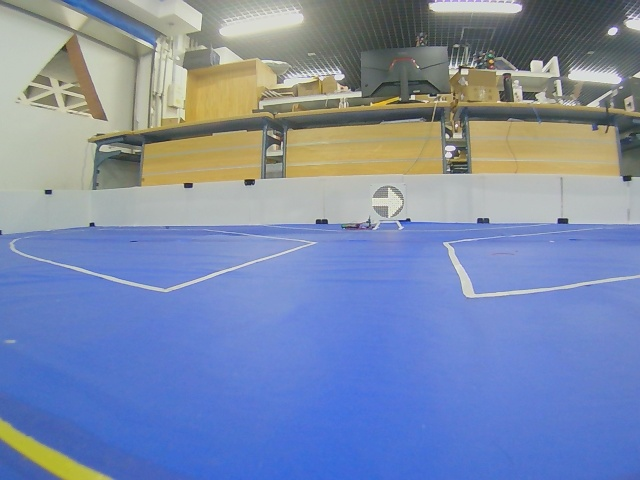right_yellow: (372, 185, 405, 219)
